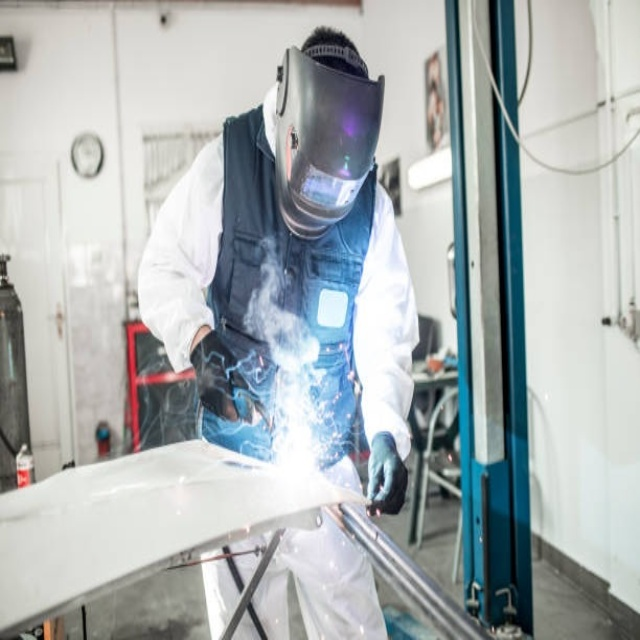Guantes: (191, 329, 260, 426), (367, 433, 408, 514)
